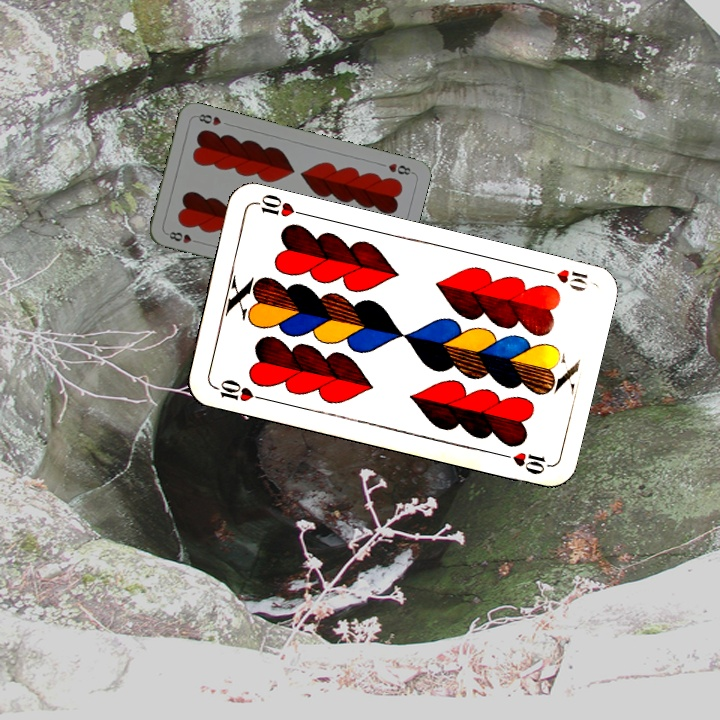H10: (209, 375, 267, 405), (535, 264, 591, 294)
H8: (163, 227, 203, 246), (384, 159, 415, 178)
